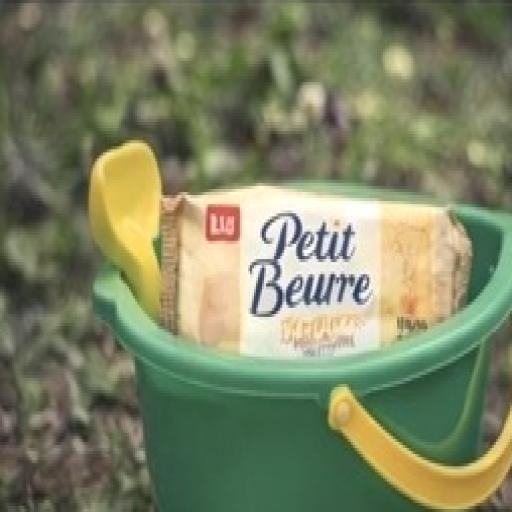petit-beurre: (122, 128, 502, 466)
